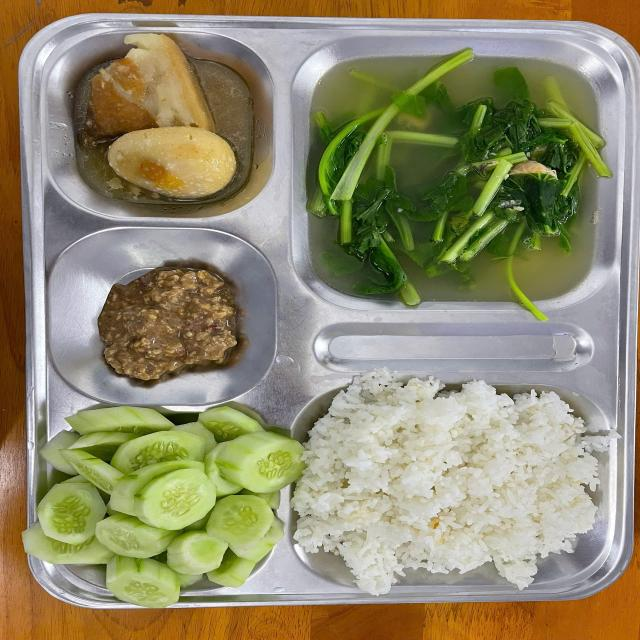canhrau: (314, 58, 598, 304)
dualeo: (52, 409, 278, 595)
salad: (315, 390, 608, 575)
thitluoc: (65, 40, 258, 211)
